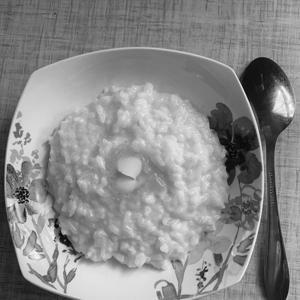porridge: (18, 70, 258, 279)
